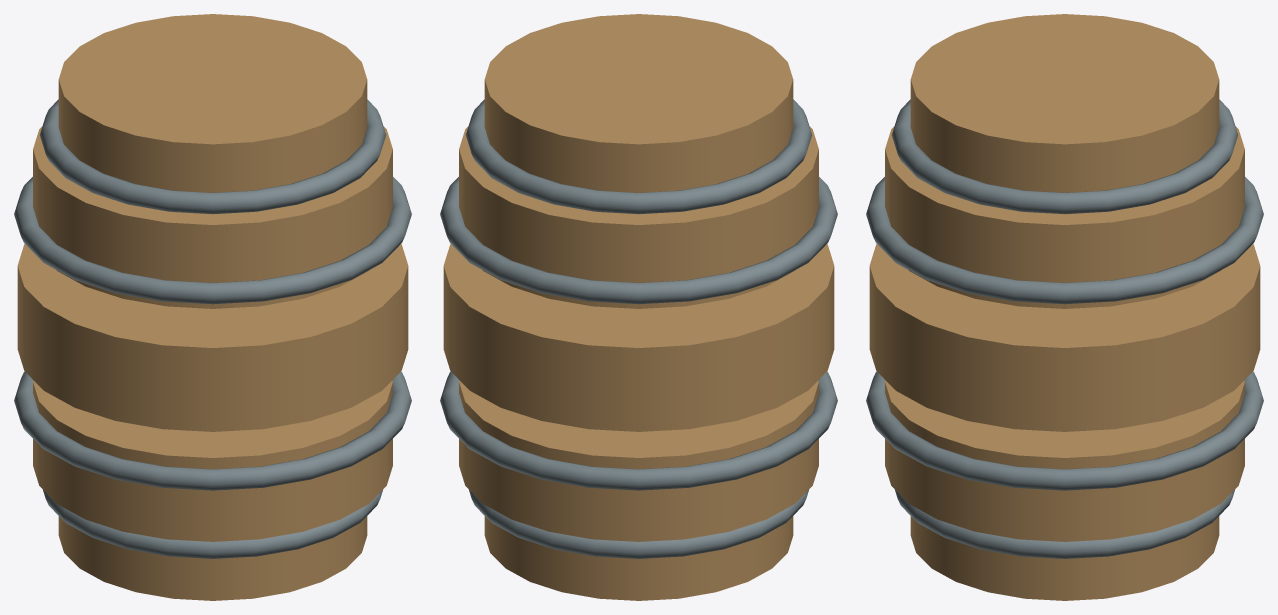
The model's file is Wine_Barrel.fbx.
3 renders of one model, left to right at view 1: azimuth 30°, elevation 25°; view 2: azimuth 150°, elevation 25°; view 3: azimuth 270°, elevation 25°, orthographic.
Visible parts, largest first — view 1: Wine_Barrel_Wood, Wine_Barrel_SteelDark; view 2: Wine_Barrel_Wood, Wine_Barrel_SteelDark; view 3: Wine_Barrel_Wood, Wine_Barrel_SteelDark.
Boxes of the visible parts, x1=… form: Wine_Barrel_Wood: x1=17, y1=14, x2=408, y2=600; Wine_Barrel_SteelDark: x1=14, y1=99, x2=411, y2=558; Wine_Barrel_Wood: x1=443, y1=14, x2=834, y2=600; Wine_Barrel_SteelDark: x1=440, y1=99, x2=837, y2=558; Wine_Barrel_Wood: x1=869, y1=14, x2=1260, y2=600; Wine_Barrel_SteelDark: x1=866, y1=99, x2=1263, y2=558.
Size of the model in its own units: 77.4 by 98 by 77.4.
